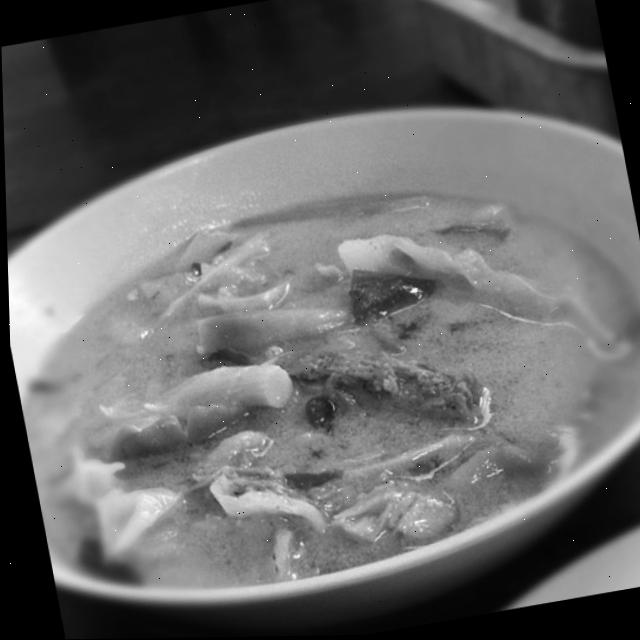汤锅炖物: (2, 67, 640, 639)
